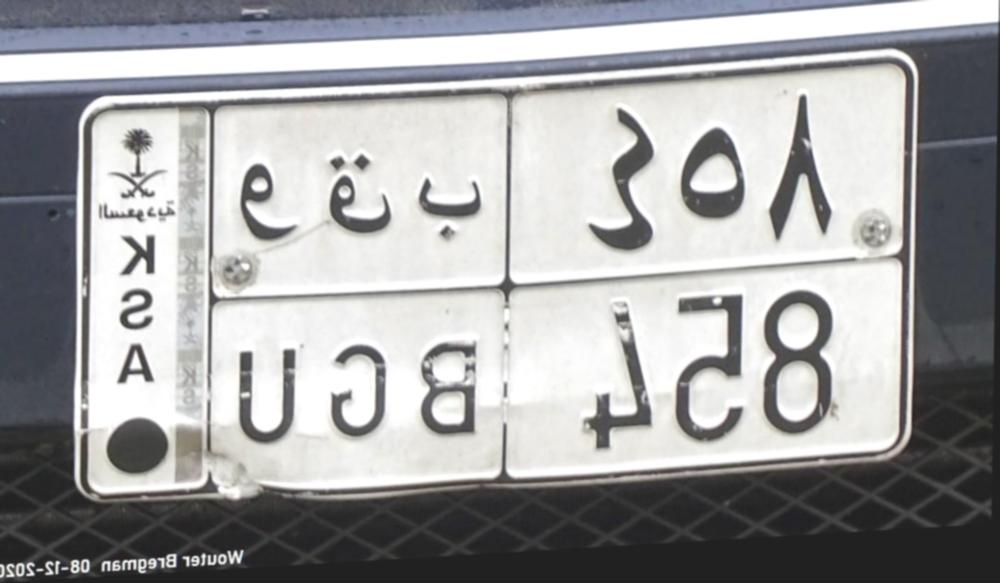License_Plate: (67, 38, 932, 514)
